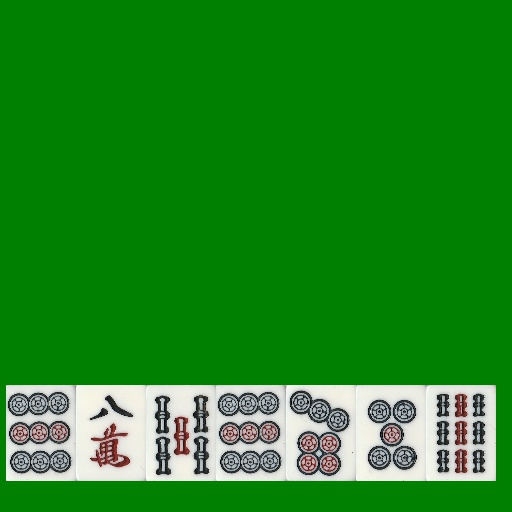5p: (356, 385, 426, 481)
5s: (146, 385, 216, 481)
7p: (286, 385, 356, 481)
8m: (76, 385, 146, 481)
9p: (6, 385, 76, 481), (216, 385, 286, 481)
9s: (426, 385, 496, 481)
